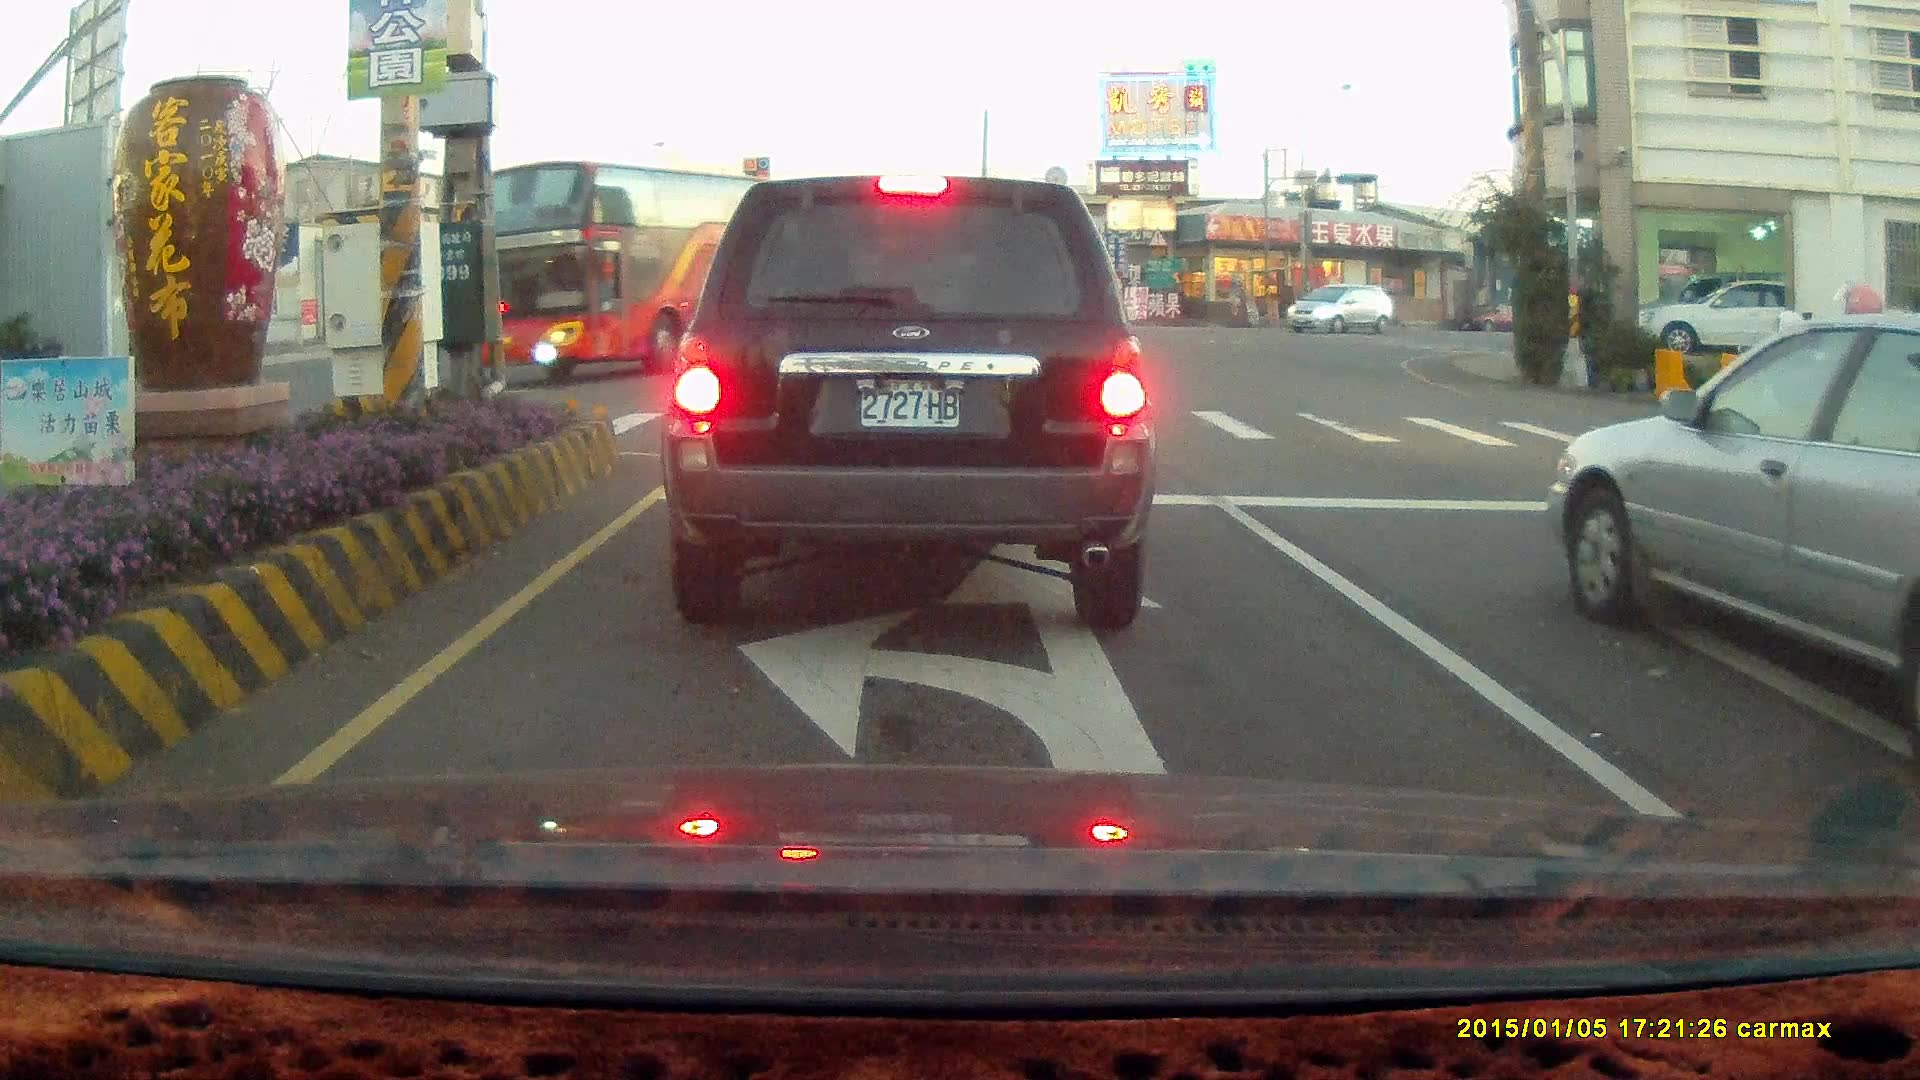vehicle: (655, 173, 1155, 632), (1544, 309, 1920, 775), (1549, 313, 1920, 702), (516, 255, 721, 345), (1629, 276, 1832, 360), (1642, 276, 1784, 356), (1896, 493, 1920, 836), (1284, 284, 1396, 338)
